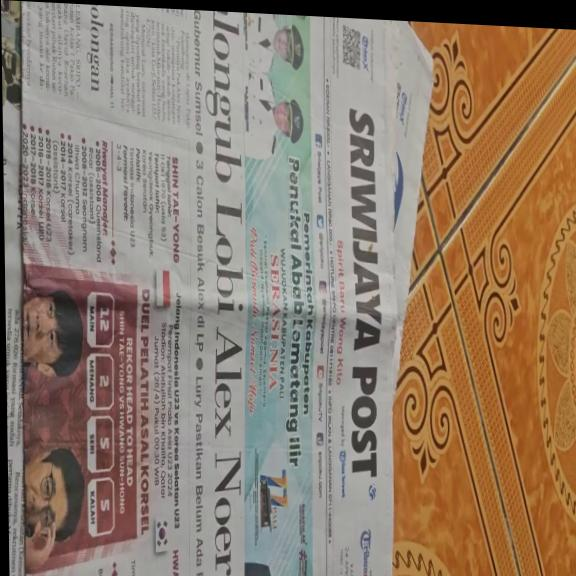Kertas: (0, 2, 387, 576)
